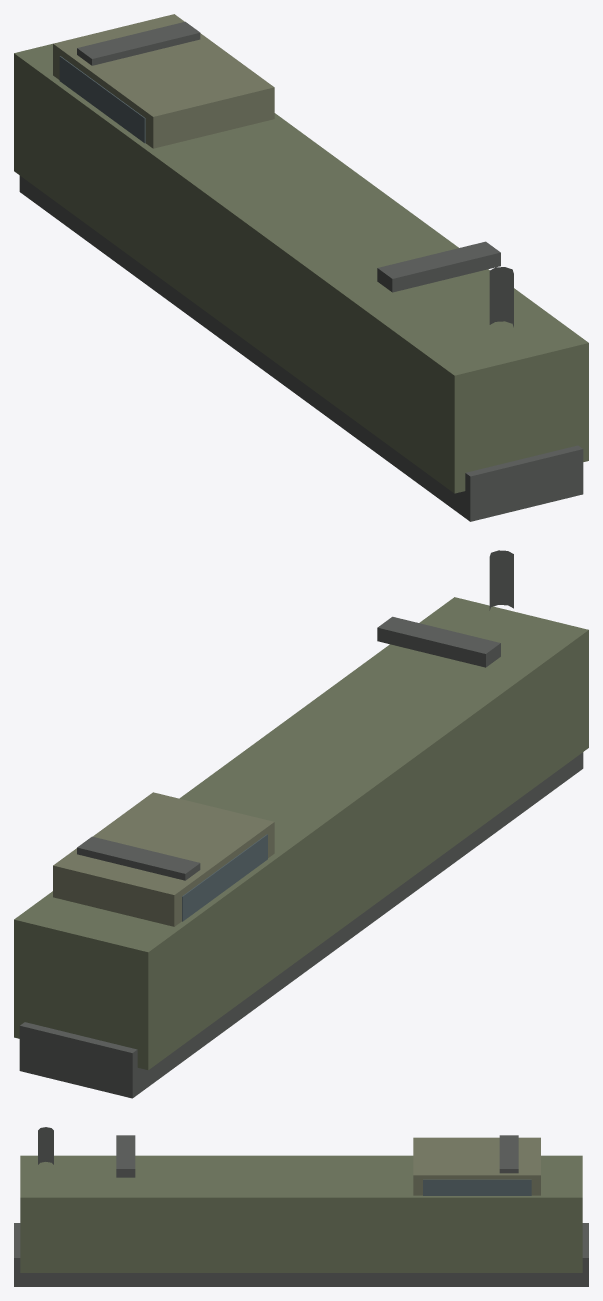
Rendered from i_locomotive.glb.
3 views of the same model, one above another, from view 1: azimuth 30°, elevation 25°; view 2: azimuth 150°, elevation 25°; view 3: azimuth 270°, elevation 25° (orthographic). The views are drawn at different scales.
Visible parts, largest first — view 1: body; view 2: body; view 3: body.
Part boxes in pixels (x1,y1,x2,y2): body: (14,14,588,521); body: (14,550,588,1098); body: (14,1127,588,1286).
Bounding box in the file's own units: 3.1 × 4.8 × 18.
